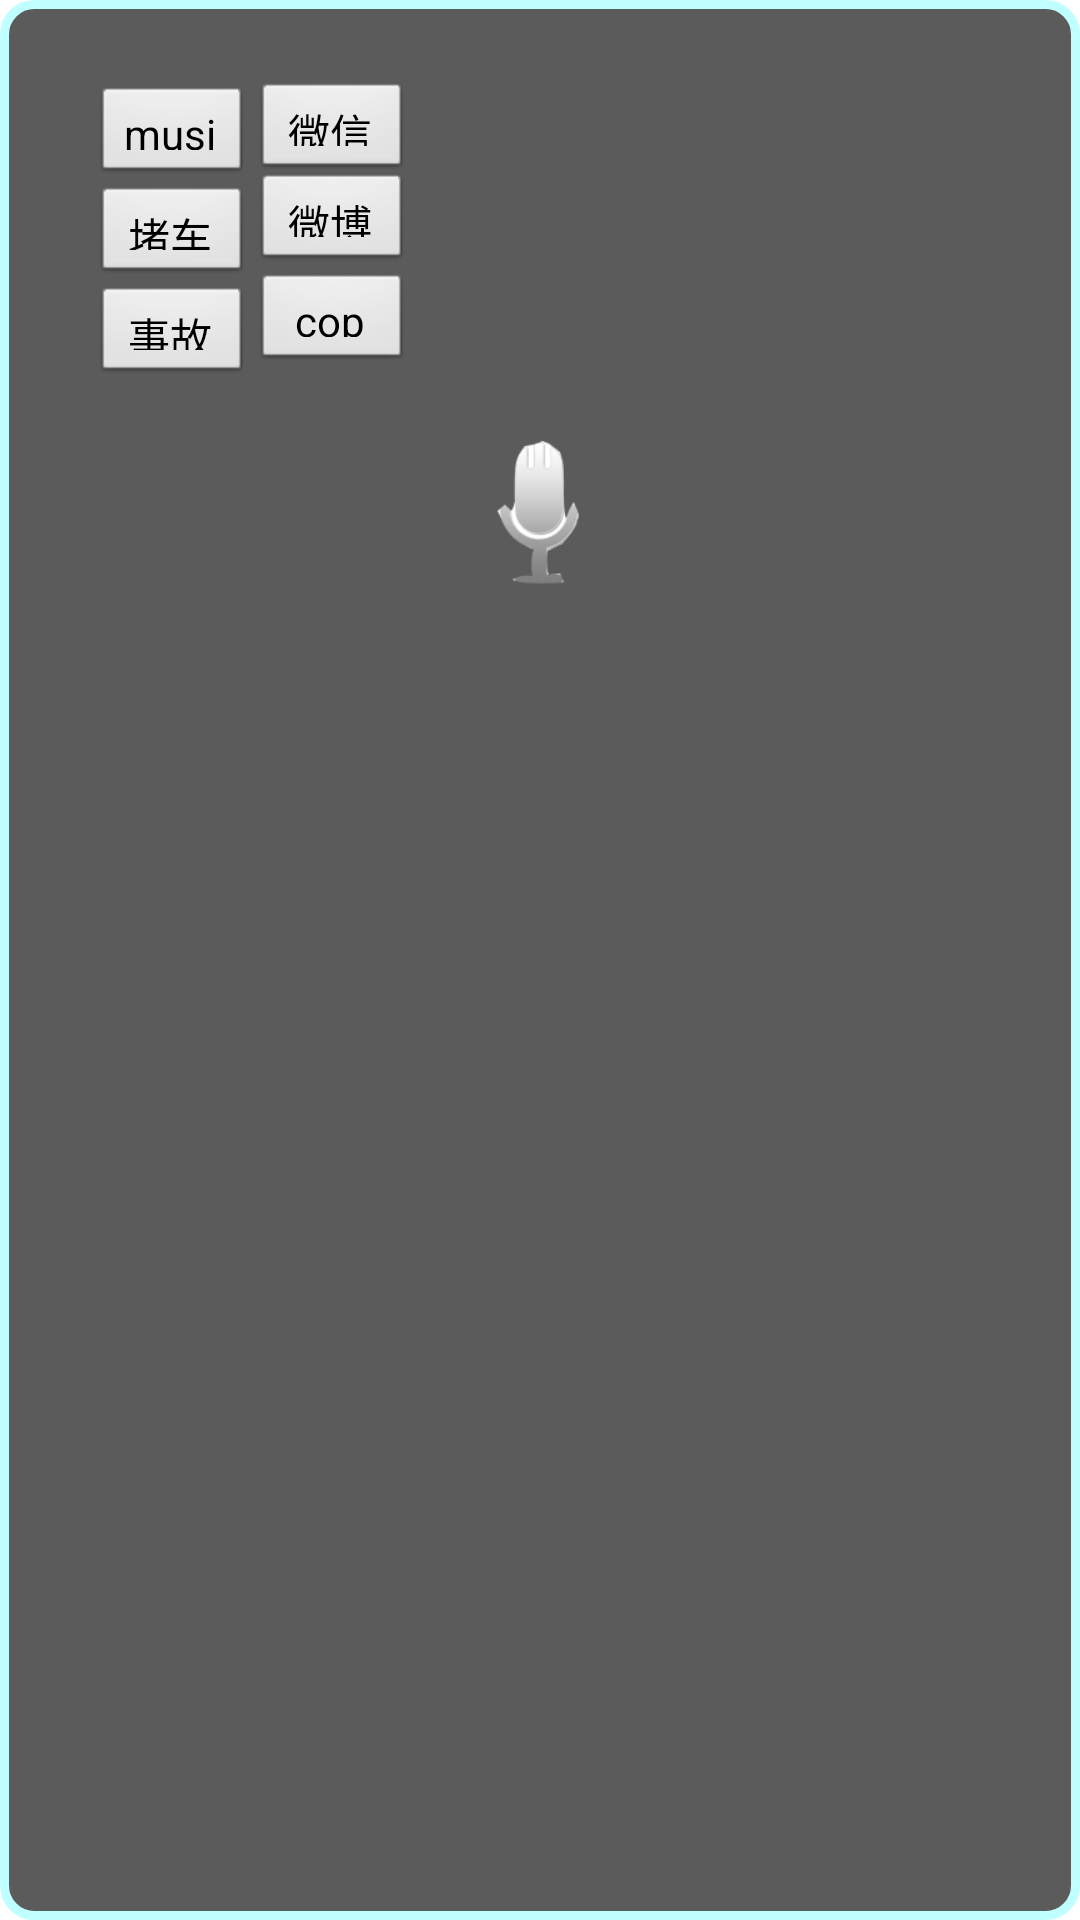

Named icons in this screenshot (1080 × 1920) and their centers, (x,y):
mic: (538,503)
